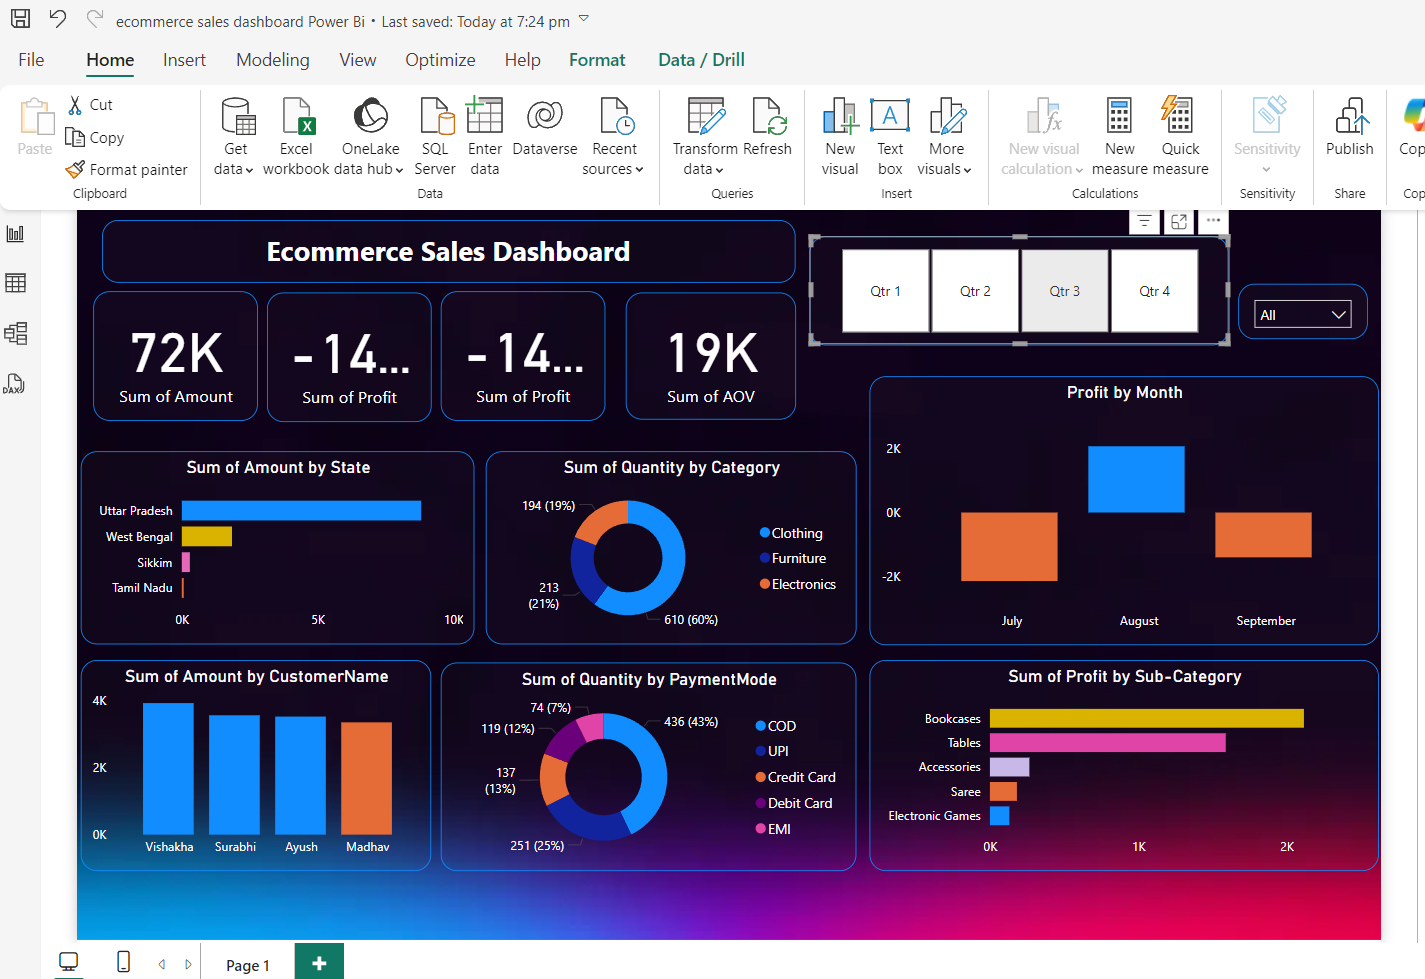

The dashboard page shown, as its layout file describes it:
{"tool":"powerbi","page":{"name":"Page 1","canvas":[1280,720],"ordinal":0},"visuals":[{"type":"textbox","box":[24.7,10.3,680.4,61.9],"z":0},{"type":"columnChart","title":"Profit by Month","fields":{"Category":["Orders.Order Date.Variation.Date Hierarchy.Month"],"Y":["Sum(Details.Profit)"]},"box":[778.4,162.9,500,263.9],"z":1000},{"type":"barChart","fields":{"Category":["Details.Sub-Category"],"Y":["Sum(Details.Profit)"]},"box":[777.3,442.3,500,207.2],"z":2000},{"type":"donutChart","fields":{"Category":["Details.Category"],"Y":["Sum(Details.Quantity)"]},"box":[401,237.1,363.9,189.7],"z":3000},{"type":"donutChart","fields":{"Y":["Sum(Details.Quantity)"],"Category":["Details.PaymentMode"]},"box":[356.7,444.3,408.2,205.2],"z":4000},{"type":"card","fields":{"Values":["Sum(Details.Amount)"]},"box":[16.5,79.4,161.9,126.8],"z":5000},{"type":"card","fields":{"Values":["Sum(Details.Profit)"]},"box":[186.6,80.4,161.9,126.8],"z":6000},{"type":"card","fields":{"Values":["Sum(Details.Profit)"]},"box":[356.7,79.4,161.9,126.8],"z":7000},{"type":"card","fields":{"Values":["Sum(Details.AOV)"]},"box":[538.1,81.4,167,124.7],"z":8000},{"type":"barChart","fields":{"Category":["Orders.State"],"Y":["Sum(Details.Amount)"]},"box":[4.1,237.1,386.6,189.7],"z":9000},{"type":"columnChart","fields":{"Category":["Orders.CustomerName"],"Y":["Sum(Details.Amount)"]},"box":[4.1,442.3,344.3,207.2],"z":10000},{"type":"slicer","fields":{"Values":["Orders.Order Date.Variation.Date Hierarchy.Quarter"]},"box":[719.6,25.8,411.3,107.2],"z":11000},{"type":"slicer","fields":{"Values":["Orders.State"]},"box":[1140.2,72.2,126.8,54.6],"z":12000}]}

Visuals, with their boxes on the page's 1280x720 design canvas (x1, y1, x2, y2). These are canvas units, not pixel positions in the 1425x979 screenshot, which may show the page scaled, cropped or inside an application window:
textbox: (left=25, top=10, right=705, bottom=72)
"Profit by Month" columnChart: (left=778, top=163, right=1278, bottom=427)
barChart - Details.Sub-Category x Sum(Details.Profit): (left=777, top=442, right=1277, bottom=650)
donutChart - Details.Category x Sum(Details.Quantity): (left=401, top=237, right=765, bottom=427)
donutChart - Sum(Details.Quantity) x Details.PaymentMode: (left=357, top=444, right=765, bottom=650)
card - Sum(Details.Amount): (left=16, top=79, right=178, bottom=206)
card - Sum(Details.Profit): (left=187, top=80, right=348, bottom=207)
card - Sum(Details.Profit): (left=357, top=79, right=519, bottom=206)
card - Sum(Details.AOV): (left=538, top=81, right=705, bottom=206)
barChart - Orders.State x Sum(Details.Amount): (left=4, top=237, right=391, bottom=427)
columnChart - Orders.CustomerName x Sum(Details.Amount): (left=4, top=442, right=348, bottom=650)
slicer - Orders.Order Date.Variation.Date Hierarchy.Quarter: (left=720, top=26, right=1131, bottom=133)
slicer - Orders.State: (left=1140, top=72, right=1267, bottom=127)
